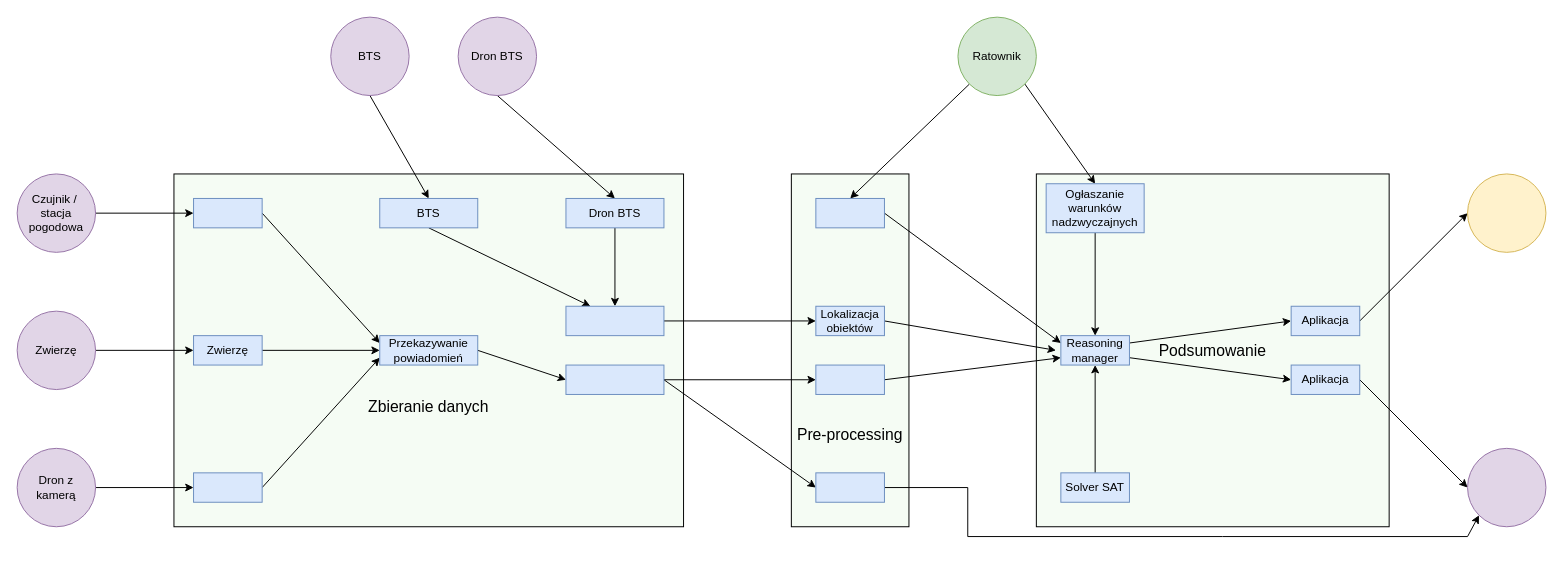
This 1563x562 diagram has some shape labels left out. The centre of each missing label's shape, as x and y in pixels:
"Badanie otoczenia" belongs at (x=849, y=379).
"Czujnik / sp" belongs at (x=227, y=212).
"Dron z k" belongs at (x=227, y=487).
"Komputer ratownika" belongs at (x=1506, y=487).
"Nadawanie wideo" belongs at (x=849, y=487).
"Ogłaszanie lawiny" belongs at (x=849, y=212).
"Smartfon" belongs at (x=1506, y=212).
"Zbieranie CDR" belongs at (x=614, y=320).
"Zbieranie powiadomień" belongs at (x=614, y=379).
